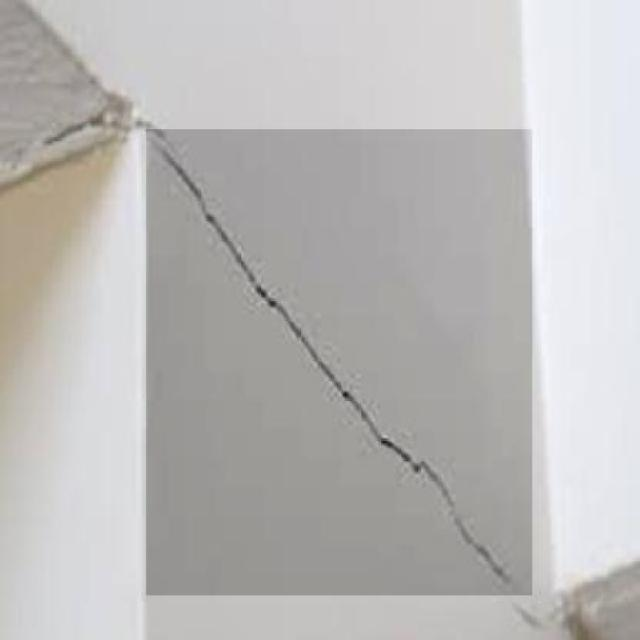Crack: (149, 126, 537, 597)
